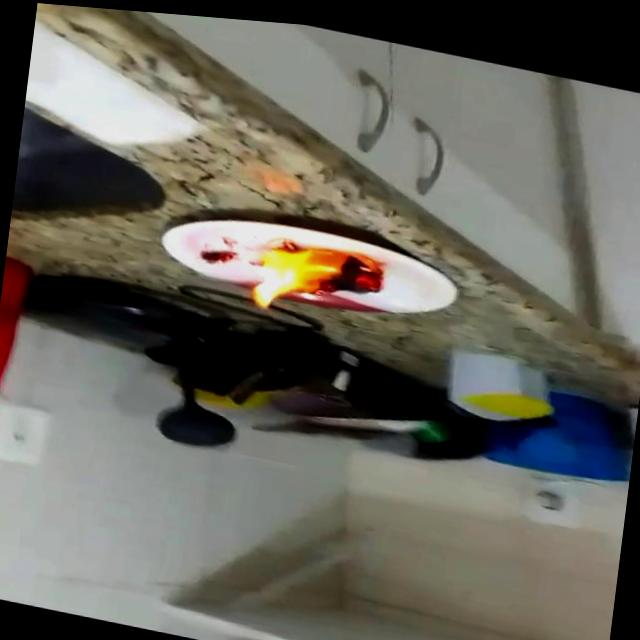Fire: (244, 221, 390, 327)
